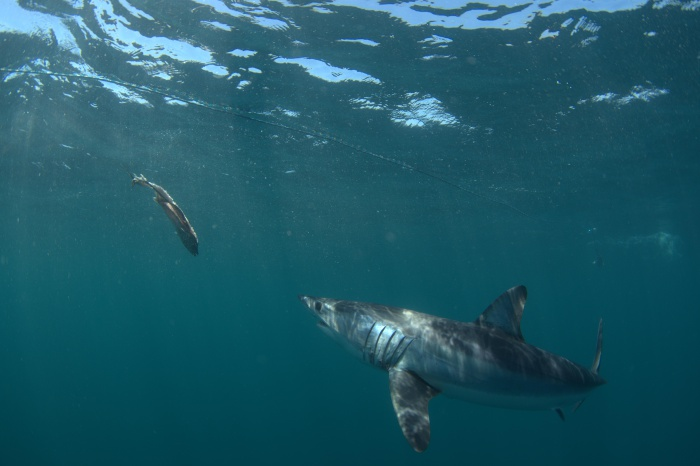Mako: (274, 265, 624, 456)
